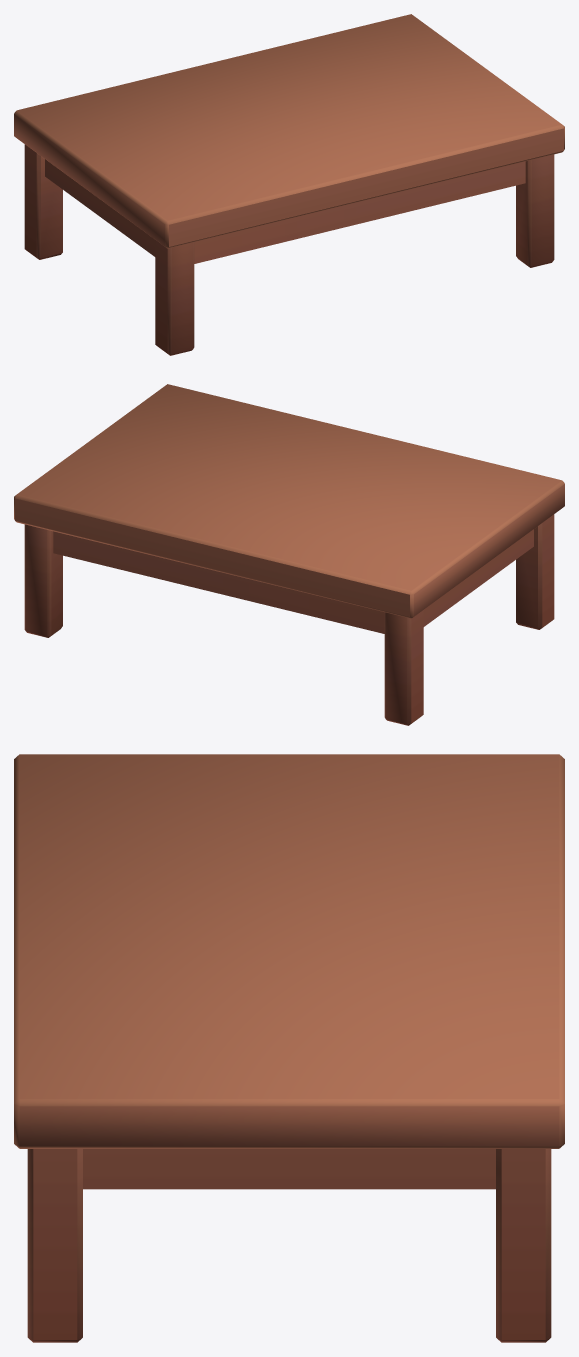
File: table_medium_long.glb
3 renders of one model, top to bottom at view 1: azimuth 30°, elevation 25°; view 2: azimuth 150°, elevation 25°; view 3: azimuth 270°, elevation 25°, orthographic. The views are drawn at different scales.
Visible parts, largest first — view 1: table_medium_long; view 2: table_medium_long; view 3: table_medium_long.
Boxes of the visible parts, x1=… form: table_medium_long: x1=14, y1=14, x2=564, y2=355; table_medium_long: x1=14, y1=384, x2=564, y2=725; table_medium_long: x1=14, y1=754, x2=564, y2=1342.
Size of the model in its own units: 3 by 0.9999 by 2.
Materials: 1 (1 with a texture image).
